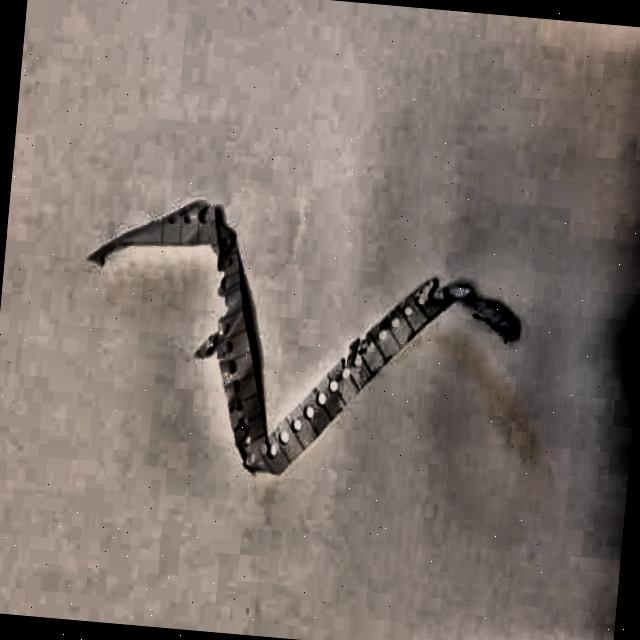paper: (70, 190, 525, 497)
